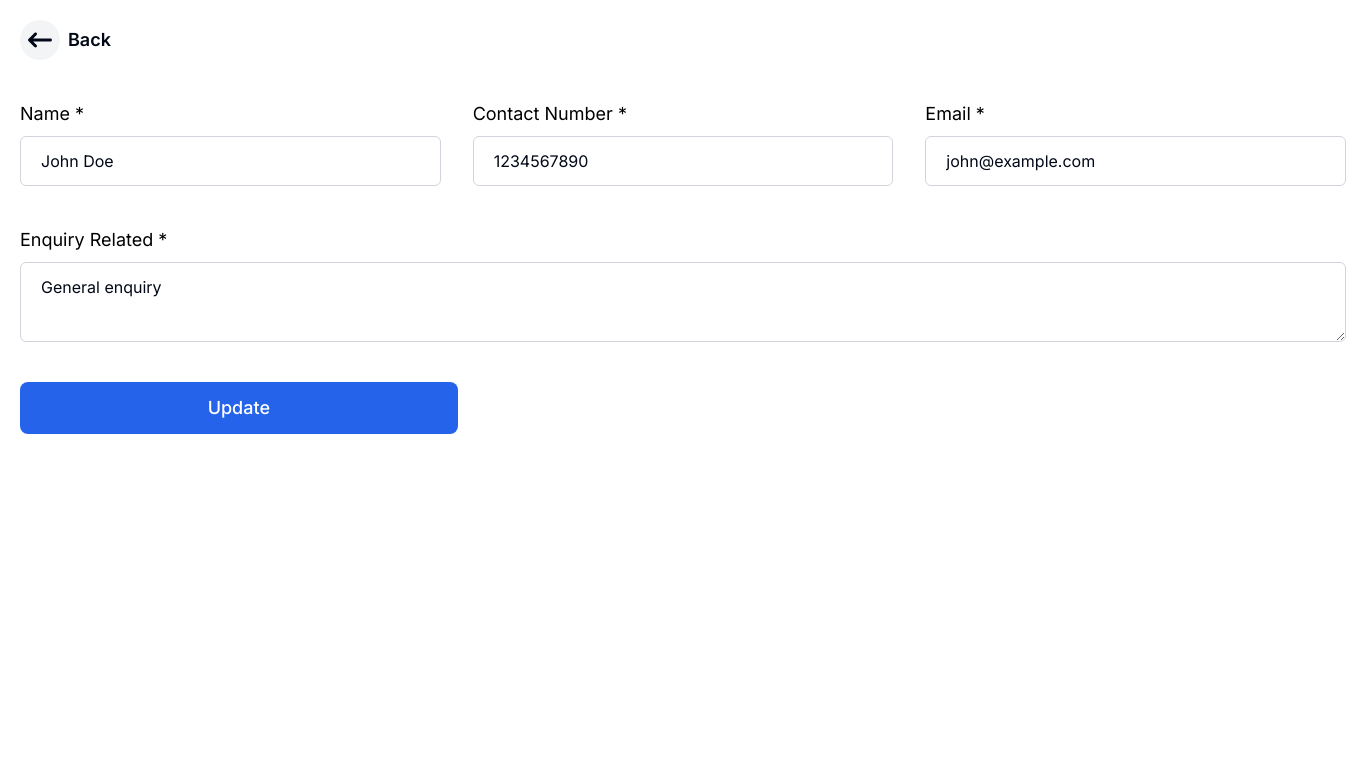
Test: EditEnquiry Component › submits form data and shows success modal
Expected: the field showing "John Doe" is shown, [20, 136, 441, 186]
Click the button "Update" at (239, 408), box [20, 382, 458, 434]
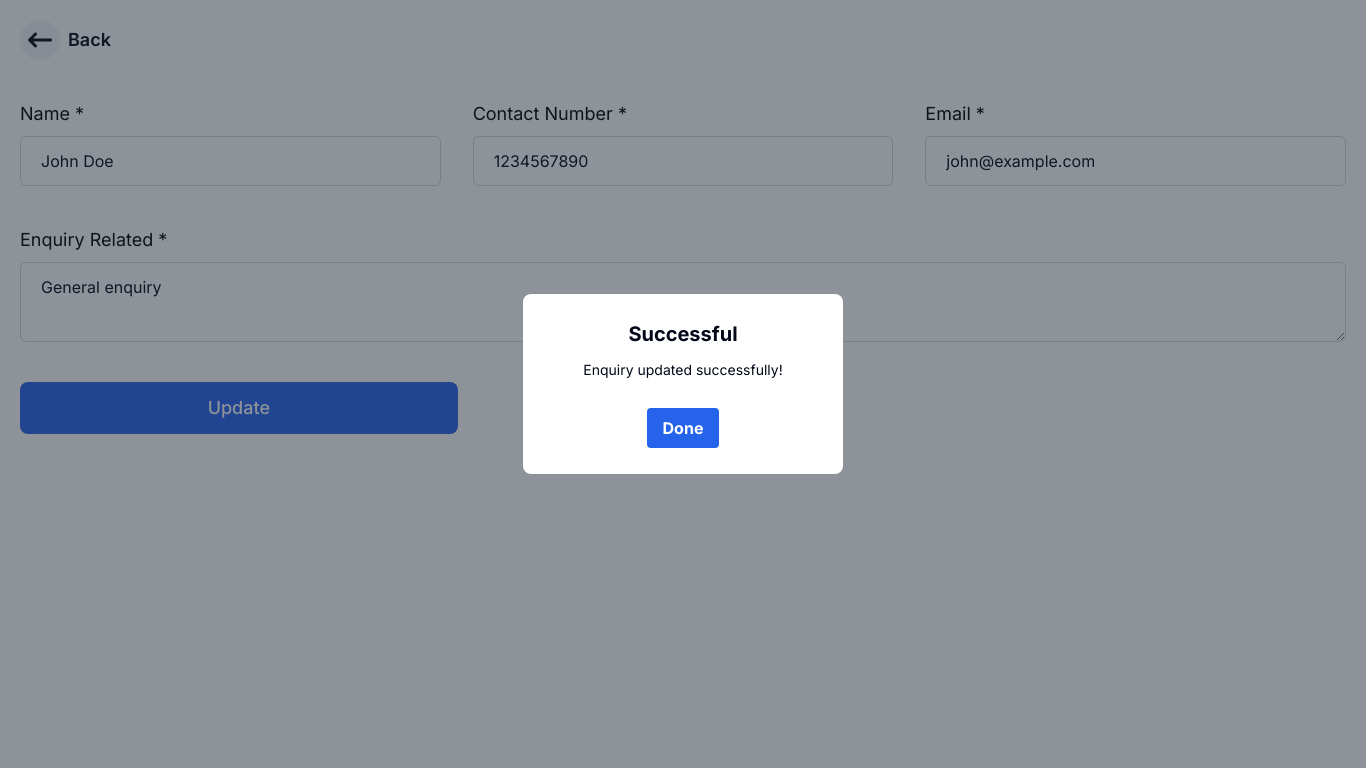
Result: the heading "Enquiry updated successfully!" is shown at [583, 360, 783, 380]
